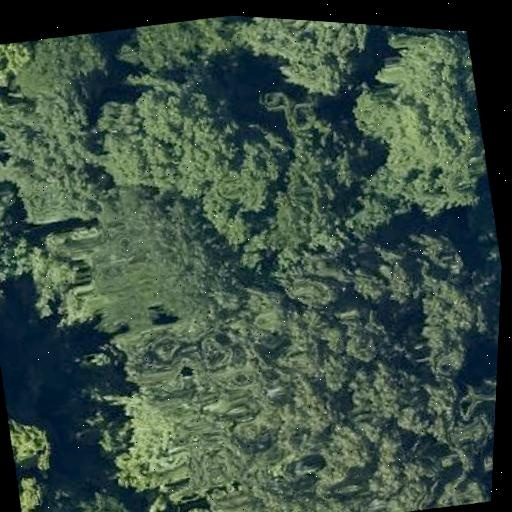tree-top: (203, 292, 442, 512), (324, 22, 500, 231), (80, 53, 286, 228), (71, 166, 233, 342), (0, 69, 127, 242), (241, 16, 389, 104), (406, 254, 495, 388), (0, 24, 116, 118), (118, 14, 211, 81), (42, 470, 145, 512), (4, 403, 56, 472), (12, 459, 70, 512)
